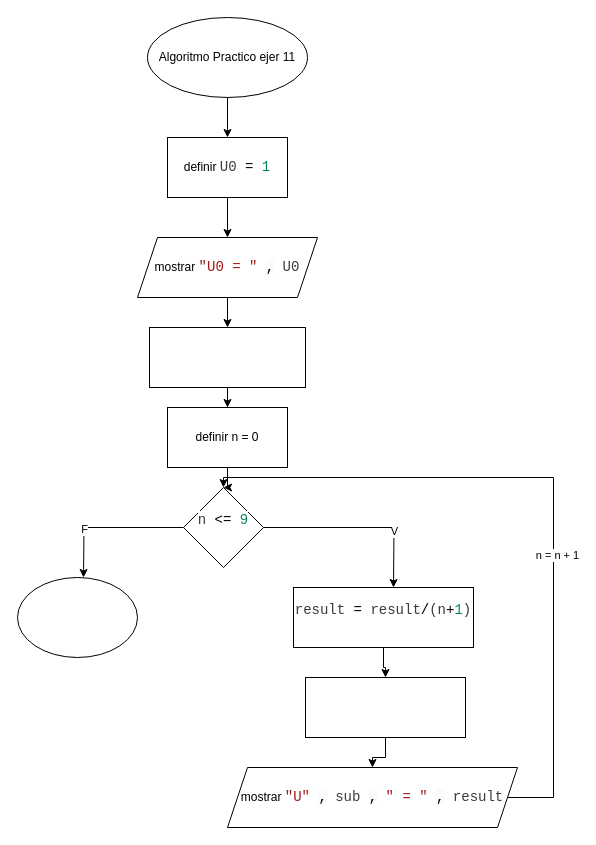
The diagram is 596 pixels wide and 845 high, and some of its shapes have lost their labels. The centre of each missing label's shape, as x and y in pixels:
"definir result = U0" belongs at (x=227, y=357).
"definir sub = n + 1" belongs at (x=385, y=707).
"FinAlgoritmo" belongs at (x=77, y=617).
